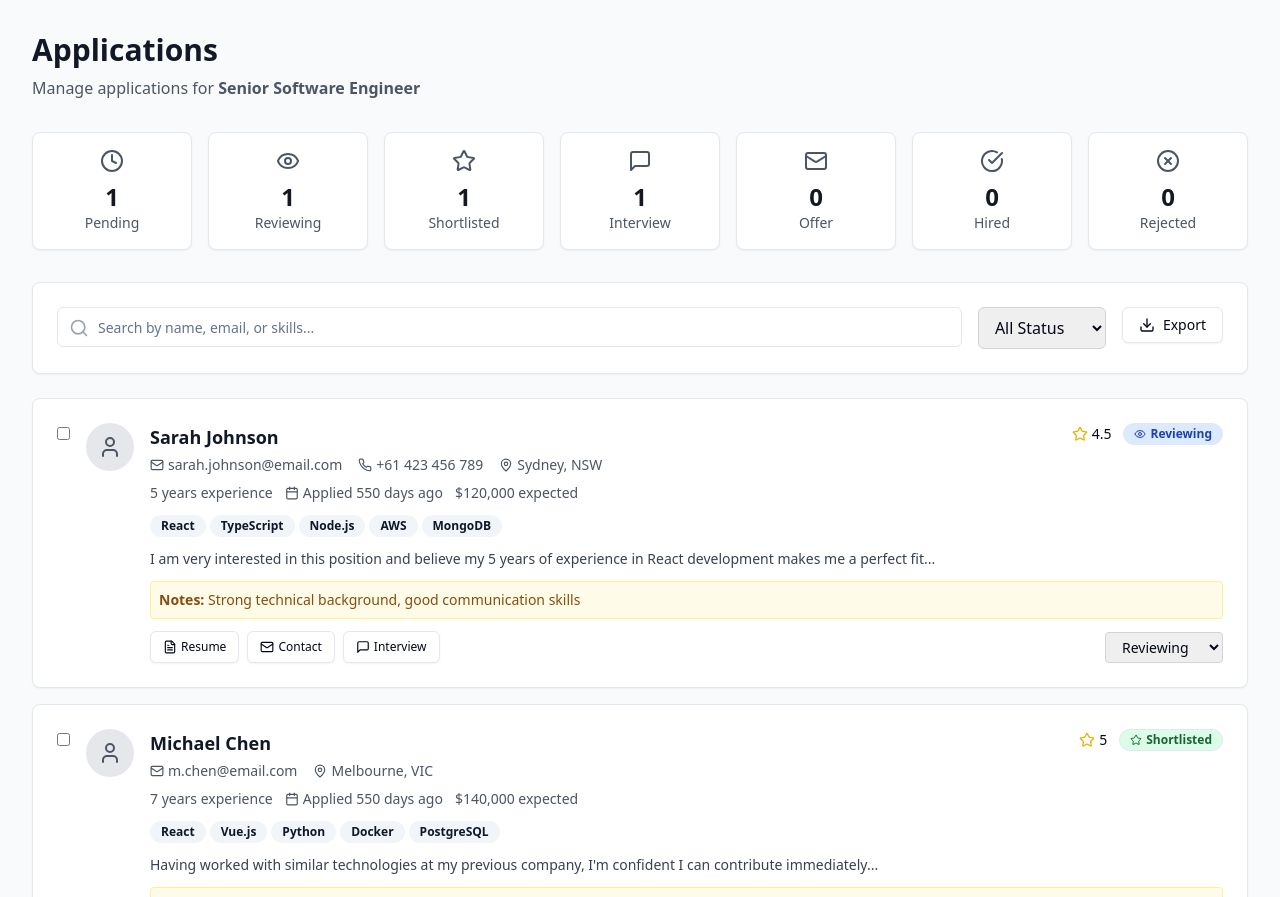
Scenario: JobApplicationsManagementPage › displays empty state when no applications match filters
Expected: the heading "Sarah Johnson" is shown, [150, 425, 279, 449]
Search for non-existent applicant
Type "NonexistentApplicant" into the field with placeholder "Search by name, email, or skills...". click: (509, 327)
box: [57, 307, 962, 347]
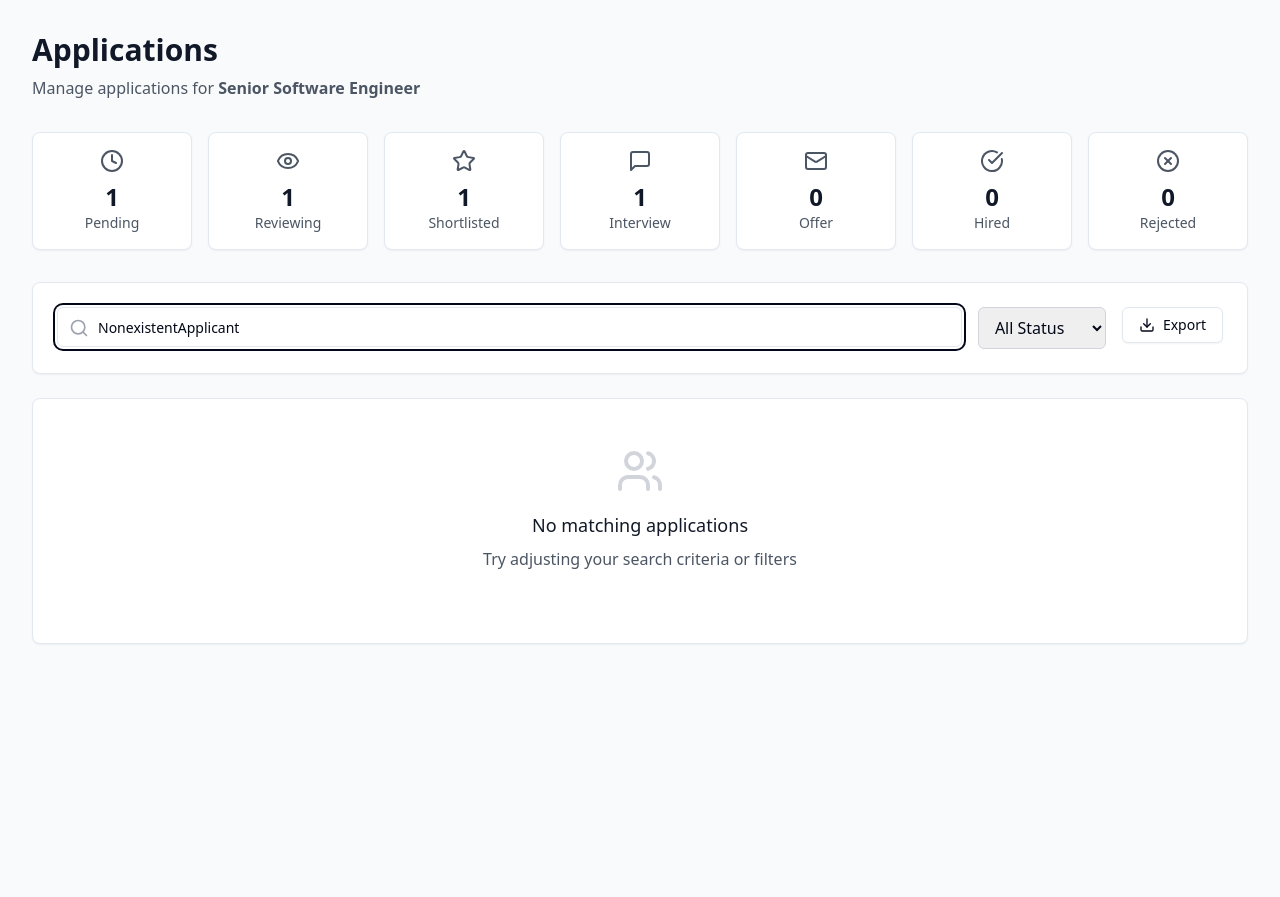
Result: the heading "No matching applications" is shown at [532, 513, 748, 537]
Result: the text "Try adjusting your search criteria or filters" is shown at [483, 548, 797, 570]
